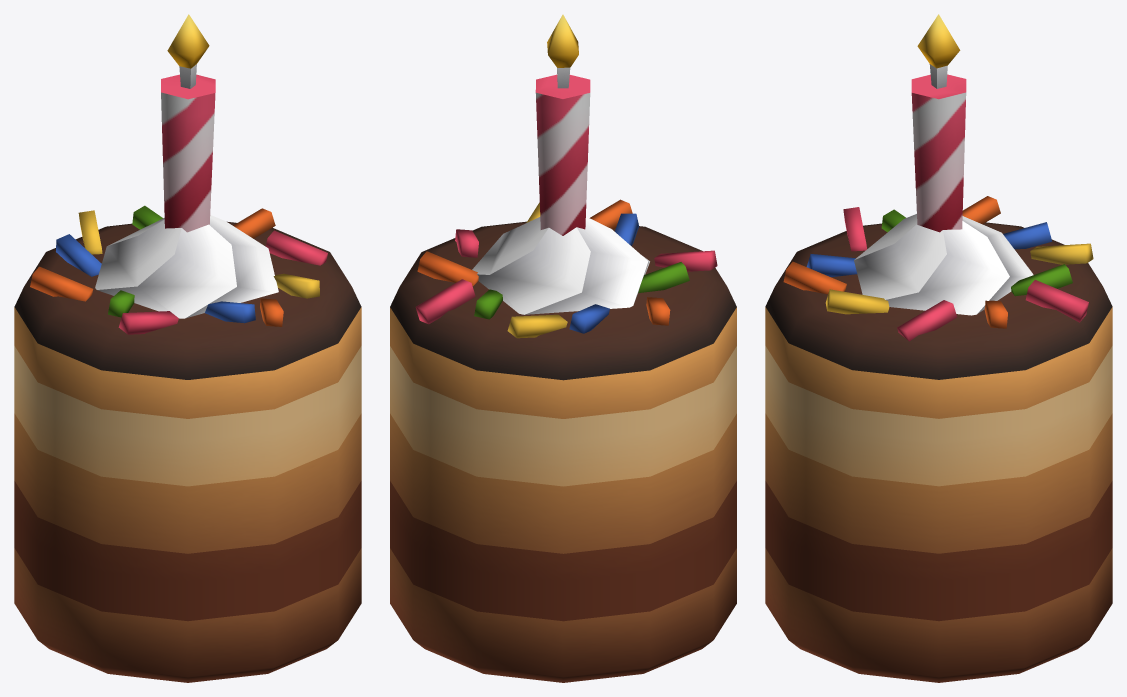
Rendered from m_MiniCake10.fbx.
3 views of the same model, side by side, from view 1: azimuth 30°, elevation 25°; view 2: azimuth 150°, elevation 25°; view 3: azimuth 270°, elevation 25° (orthographic).
Visible parts, largest first — view 1: m_MiniCake10; view 2: m_MiniCake10; view 3: m_MiniCake10.
Part boxes in pixels (bbox=[...]): m_MiniCake10: bbox=[14, 14, 361, 682]; m_MiniCake10: bbox=[390, 14, 736, 682]; m_MiniCake10: bbox=[765, 14, 1112, 682].
Size of the model in its own units: 11.34 by 21.68 by 11.34.
